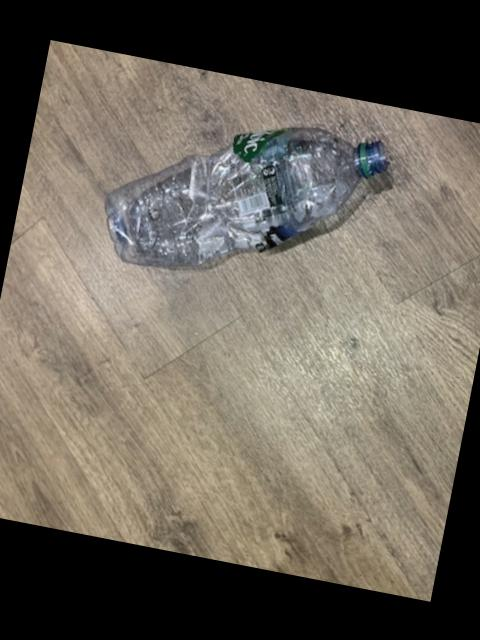plastic: (103, 128, 385, 268)
